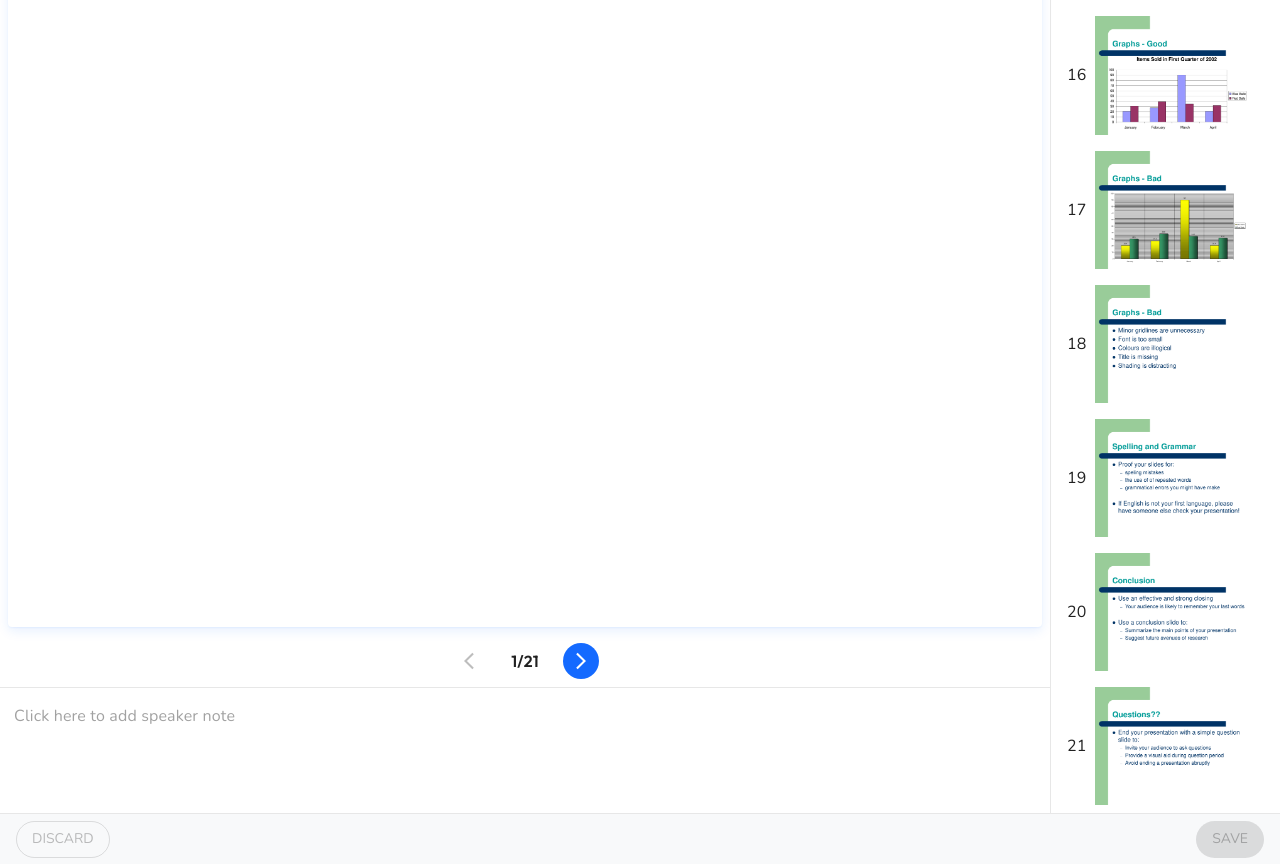
Test: MainContainer › persists the edited speaker note to localStorage on save
(page scrolled)
Type "A note for slide 1" into the text box labelled "speaker note" at [525, 751], box 14,705 -> 1036,797
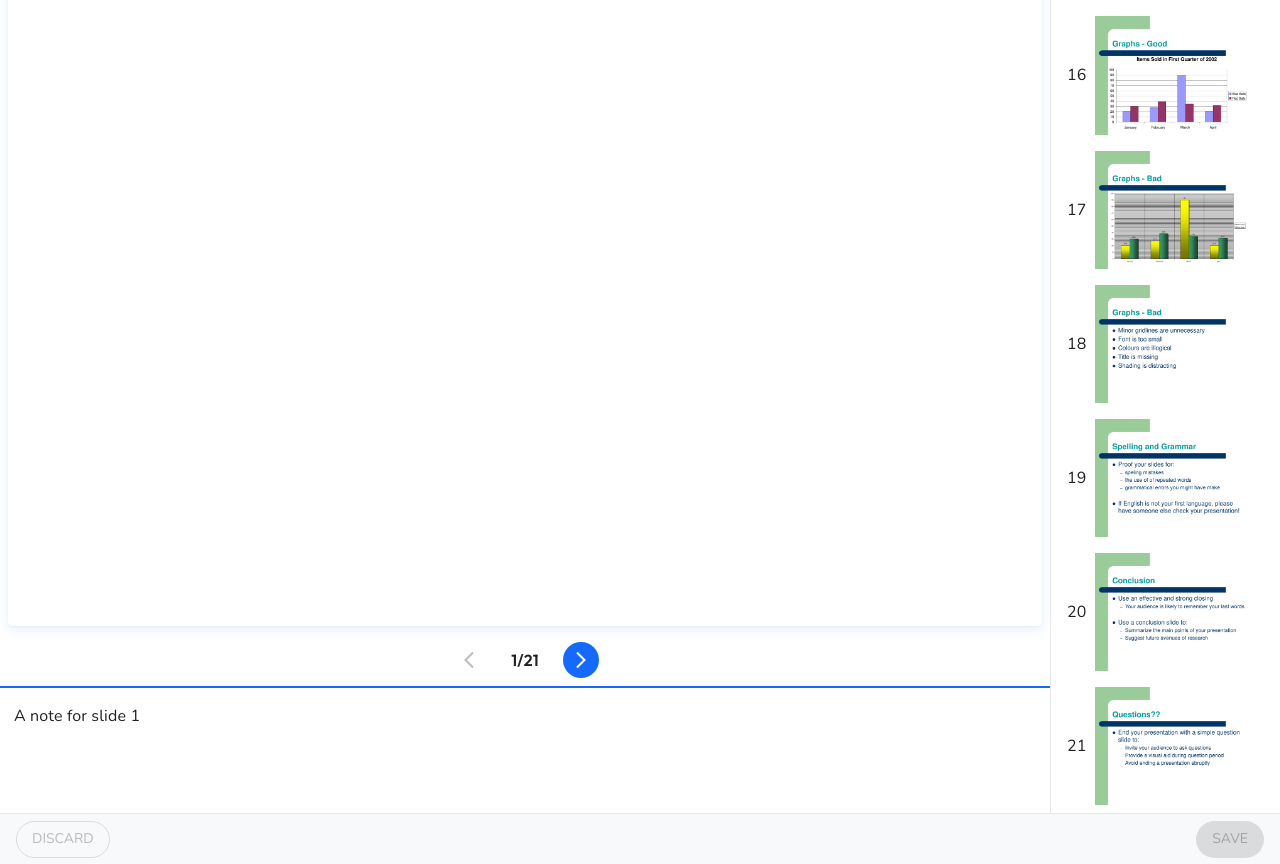
Press Tab
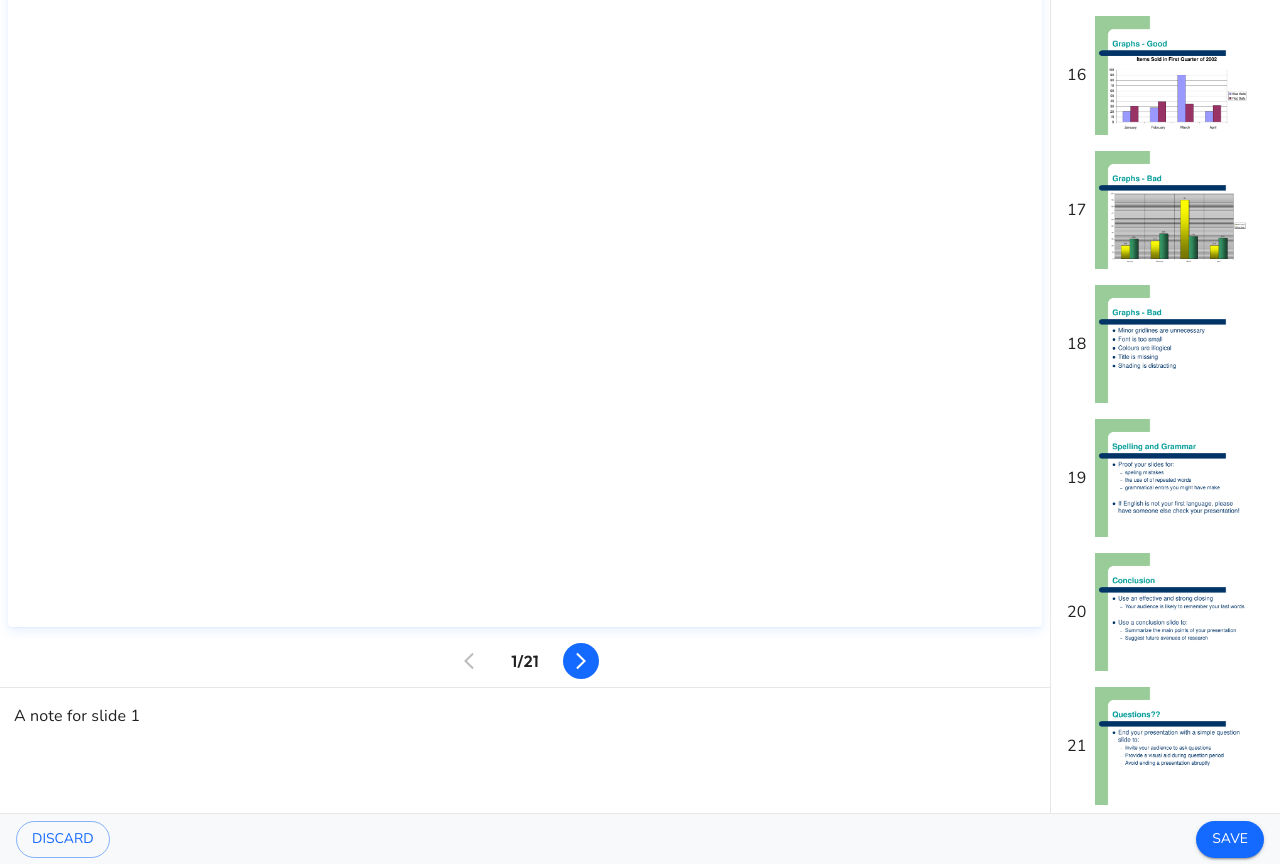
Click the button "Save" at [1230, 839], box 1196,821 -> 1264,858
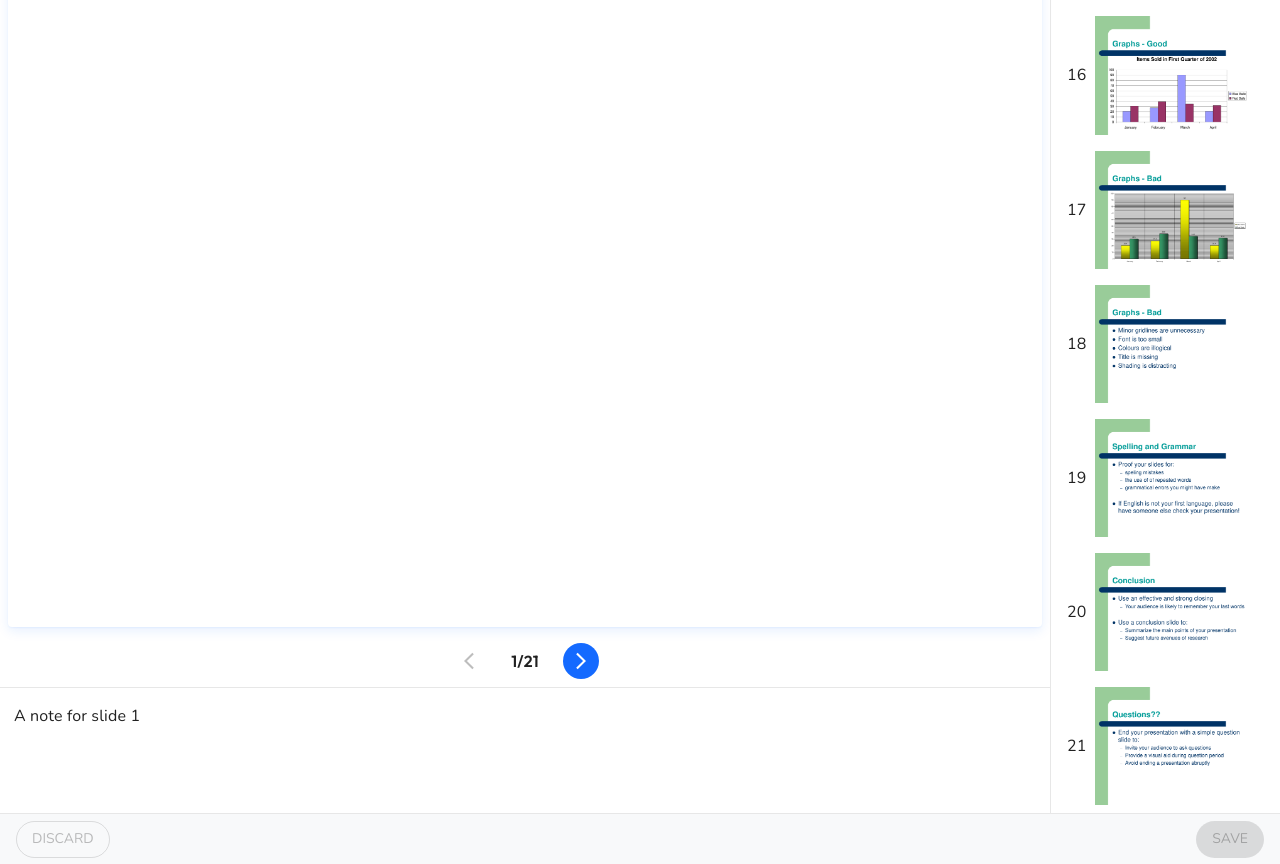
Expected: the button "Save" is disabled, 1196,821 -> 1264,858
